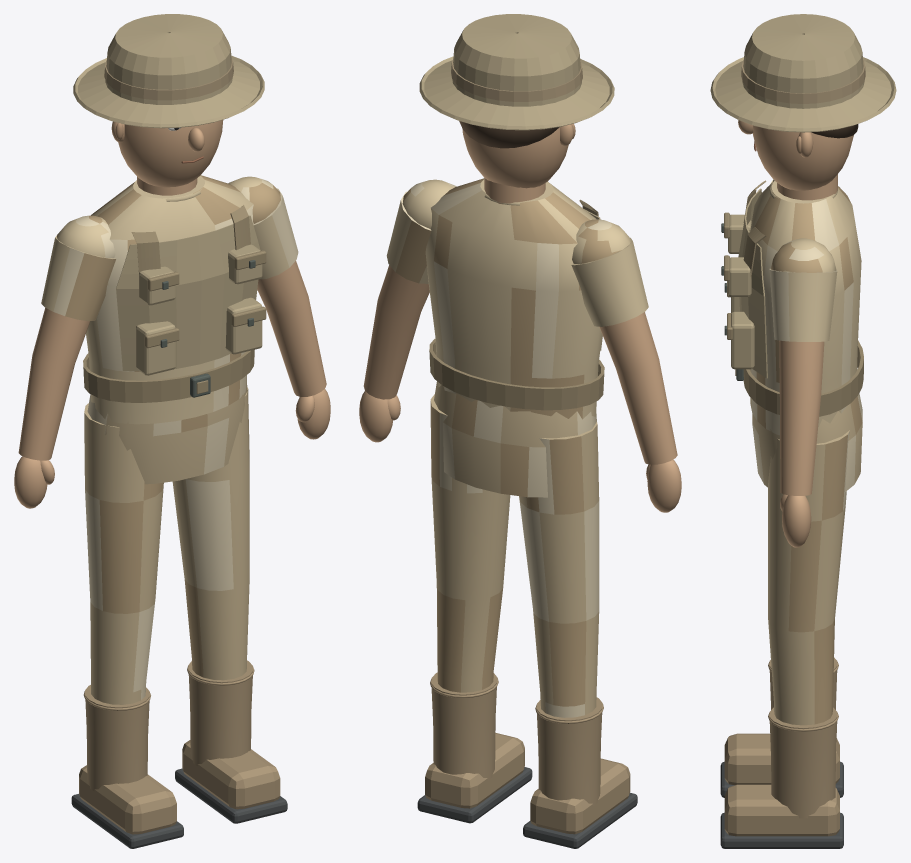
Rendered from soldier_desert_1.glb.
The picture shows the model from 3 angles, left to right: view 1: azimuth 30°, elevation 25°; view 2: azimuth 150°, elevation 25°; view 3: azimuth 270°, elevation 25°; orthographic projection.
Parts seen in each view (by area): view 1: Desert_Soldier_1_Trouser_Leg, Desert_Soldier_1_Trouser_Leg.001, Desert_Soldier_1_Torso_And_Main_Clothes, Desert_Soldier_1_Fitted_Field_Vest, Desert_Soldier_1_Desert_Boonie_Crown, Desert_Soldier_1_Connected_Hip_Garment, Desert_Soldier_1_Desert_Boonie_Brim, Desert_Soldier_1_Arm_Skin, Desert_Soldier_1_Arm_Skin.001, Desert_Soldier_1_High_Boot_Shaft, Desert_Soldier_1_High_Boot_Shaft.001, Desert_Soldier_1_Head (+18 smaller); view 2: Desert_Soldier_1_Torso_And_Main_Clothes, Desert_Soldier_1_Trouser_Leg, Desert_Soldier_1_Trouser_Leg.001, Desert_Soldier_1_Connected_Hip_Garment, Desert_Soldier_1_Desert_Boonie_Crown, Desert_Soldier_1_Desert_Boonie_Brim, Desert_Soldier_1_Arm_Skin, Desert_Soldier_1_High_Boot_Shaft, Desert_Soldier_1_High_Boot_Shaft.001, Desert_Soldier_1_Arm_Skin.001, Desert_Soldier_1_Waist_Belt, Desert_Soldier_1_Short_Sleeve (+13 smaller); view 3: Desert_Soldier_1_Trouser_Leg.001, Desert_Soldier_1_Torso_And_Main_Clothes, Desert_Soldier_1_Desert_Boonie_Crown, Desert_Soldier_1_Desert_Boonie_Brim, Desert_Soldier_1_Arm_Skin.001, Desert_Soldier_1_High_Boot_Shaft.001, Desert_Soldier_1_Shoe_Upper.001, Desert_Soldier_1_Short_Sleeve.001, Desert_Soldier_1_Head, Desert_Soldier_1_Connected_Hip_Garment, Desert_Soldier_1_Shoe_Upper, Desert_Soldier_1_Fitted_Field_Vest (+11 smaller).
Boxes of the visible parts, x1,y1,x2,y2 form: Desert_Soldier_1_Trouser_Leg: [84, 403, 163, 704]; Desert_Soldier_1_Trouser_Leg.001: [172, 387, 249, 680]; Desert_Soldier_1_Torso_And_Main_Clothes: [86, 175, 253, 424]; Desert_Soldier_1_Fitted_Field_Vest: [116, 215, 260, 371]; Desert_Soldier_1_Desert_Boonie_Crown: [105, 14, 232, 104]; Desert_Soldier_1_Connected_Hip_Garment: [87, 380, 247, 484]; Desert_Soldier_1_Desert_Boonie_Brim: [73, 55, 264, 128]; Desert_Soldier_1_Arm_Skin: [18, 308, 90, 460]; Desert_Soldier_1_Arm_Skin.001: [257, 261, 326, 396]; Desert_Soldier_1_High_Boot_Shaft: [85, 685, 149, 790]; Desert_Soldier_1_High_Boot_Shaft.001: [188, 660, 252, 765]; Desert_Soldier_1_Head: [118, 120, 223, 187]; Desert_Soldier_1_Torso_And_Main_Clothes: [425, 178, 602, 419]; Desert_Soldier_1_Trouser_Leg: [519, 422, 599, 717]; Desert_Soldier_1_Trouser_Leg.001: [430, 394, 510, 692]; Desert_Soldier_1_Connected_Hip_Garment: [434, 381, 596, 497]; Desert_Soldier_1_Desert_Boonie_Crown: [452, 14, 581, 106]; Desert_Soldier_1_Desert_Boonie_Brim: [419, 56, 614, 130]; Desert_Soldier_1_Arm_Skin: [599, 312, 677, 464]; Desert_Soldier_1_High_Boot_Shaft: [536, 697, 602, 805]; Desert_Soldier_1_High_Boot_Shaft.001: [431, 672, 497, 779]; Desert_Soldier_1_Arm_Skin.001: [363, 265, 429, 399]; Desert_Soldier_1_Waist_Belt: [429, 338, 604, 410]; Desert_Soldier_1_Short_Sleeve: [571, 237, 648, 326]; Desert_Soldier_1_Trouser_Leg.001: [768, 430, 849, 725]; Desert_Soldier_1_Torso_And_Main_Clothes: [749, 181, 861, 435]; Desert_Soldier_1_Desert_Boonie_Crown: [742, 14, 864, 108]; Desert_Soldier_1_Desert_Boonie_Brim: [710, 57, 896, 132]; Desert_Soldier_1_Arm_Skin.001: [779, 340, 824, 495]; Desert_Soldier_1_High_Boot_Shaft.001: [769, 707, 837, 818]; Desert_Soldier_1_Shoe_Upper.001: [724, 784, 839, 836]; Desert_Soldier_1_Short_Sleeve.001: [769, 268, 837, 341]; Desert_Soldier_1_Head: [753, 125, 853, 190]; Desert_Soldier_1_Connected_Hip_Garment: [752, 393, 862, 491]; Desert_Soldier_1_Shoe_Upper: [724, 733, 839, 784]; Desert_Soldier_1_Fitted_Field_Vest: [738, 188, 767, 378].
Size of the model in its own units: 0.7587 by 1.78 by 0.3861.
